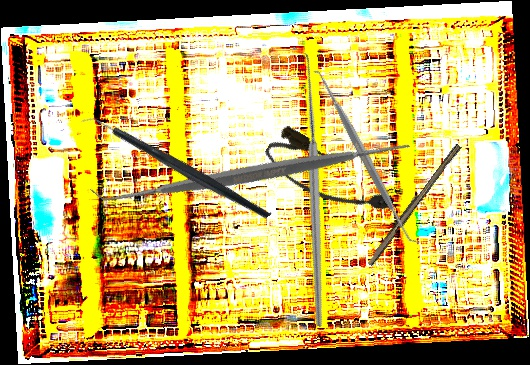Cannula: (258, 122, 400, 233)
Chopper: (76, 65, 273, 273)
Hook Surgical: (183, 46, 433, 329)
Scalpel Handle: (365, 140, 462, 269)
Spatula Surgical: (90, 6, 421, 339), (308, 63, 423, 252)
